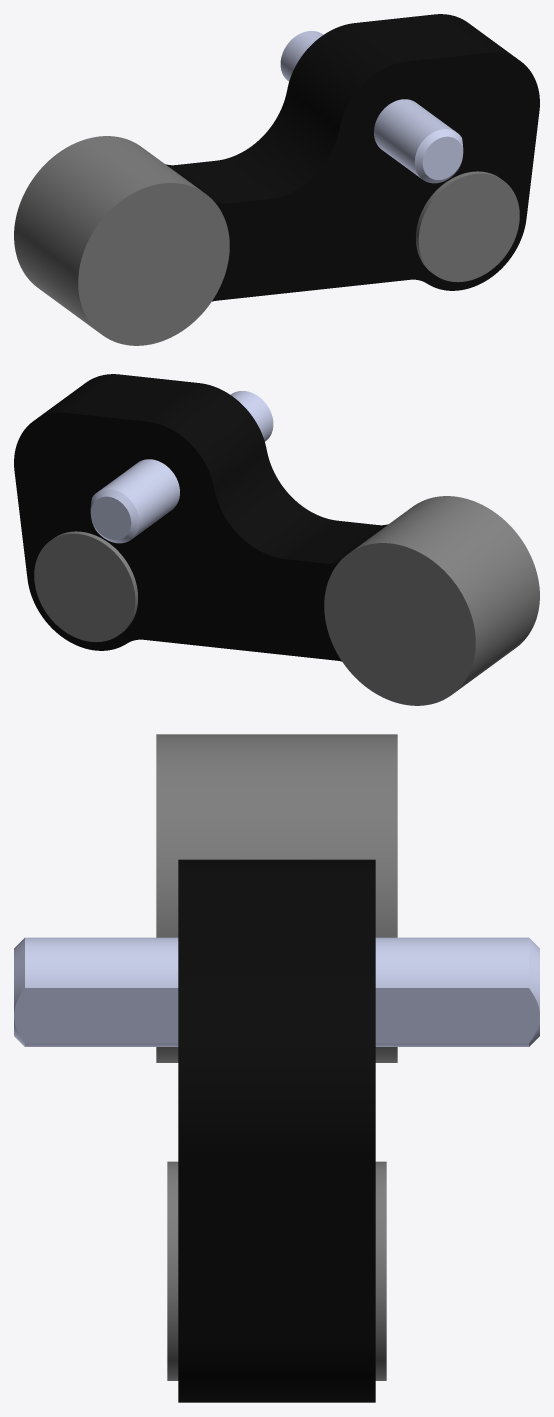
The model's file is motor_joint.obj.
The picture shows the model from 3 angles, top to bottom: view 1: azimuth 30°, elevation 25°; view 2: azimuth 150°, elevation 25°; view 3: azimuth 270°, elevation 25°; orthographic projection. The views are drawn at different scales.
Visible parts, largest first — view 1: Solid1; view 2: Solid1; view 3: Solid1.
Boxes of the visible parts, left/top/right/bottom form: Solid1: left=14, top=14, right=539, bottom=345; Solid1: left=14, top=374, right=539, bottom=705; Solid1: left=14, top=734, right=539, bottom=1402.
Size of the model in its own units: 0.0463 by 0.0229 by 0.024.
